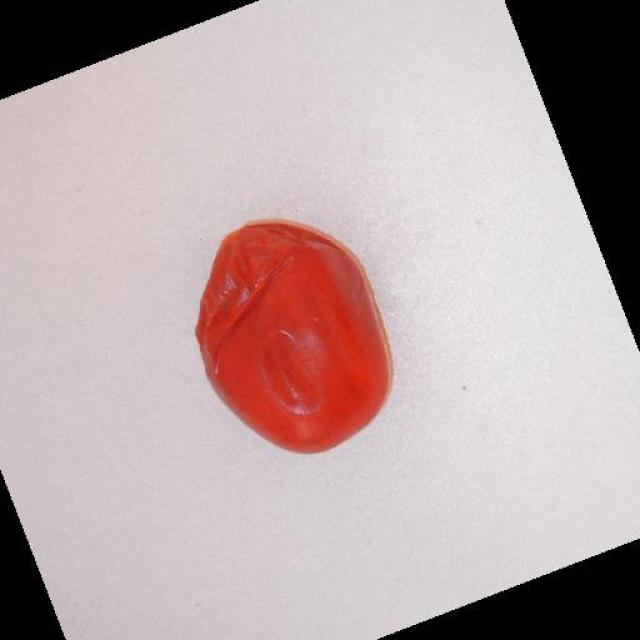Stale_tomato: (188, 219, 418, 461)
